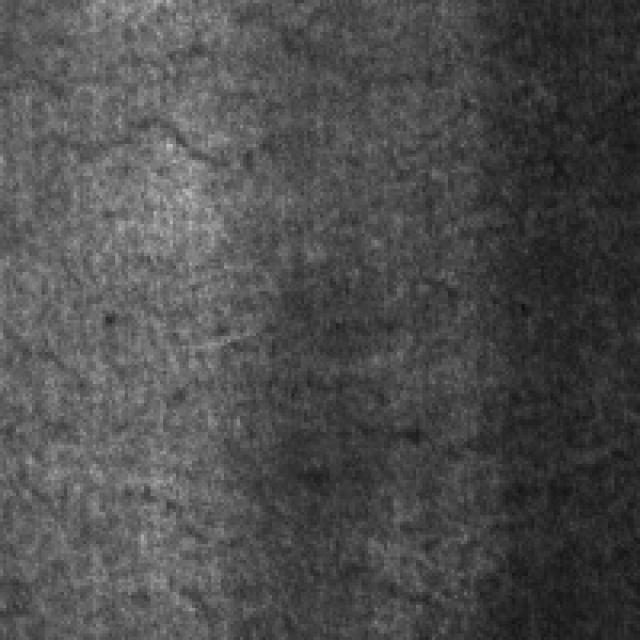crazing: (291, 407, 634, 596), (29, 61, 486, 163)
